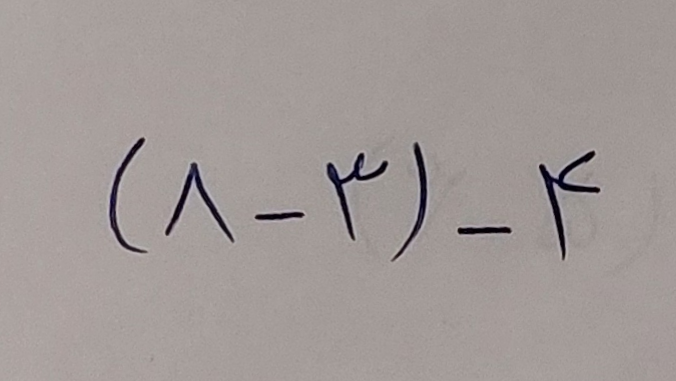character: (538, 149, 601, 262), (326, 153, 389, 243), (165, 164, 236, 241), (390, 141, 430, 263), (110, 136, 148, 253), (457, 224, 514, 238), (252, 210, 304, 222)
